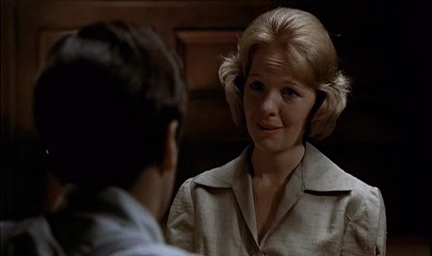face: (244, 62, 308, 152)
mcu: (1, 1, 432, 256)
ots: (1, 17, 207, 256)
person: (165, 4, 387, 256)
